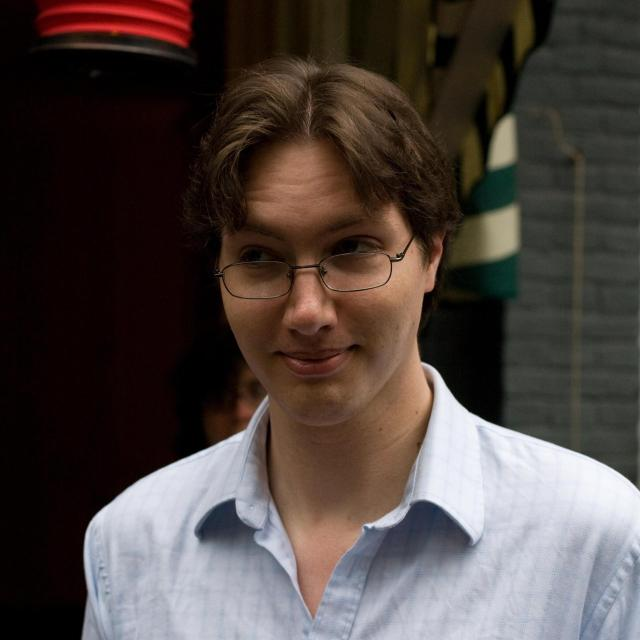no-glass: (228, 239, 374, 270)
